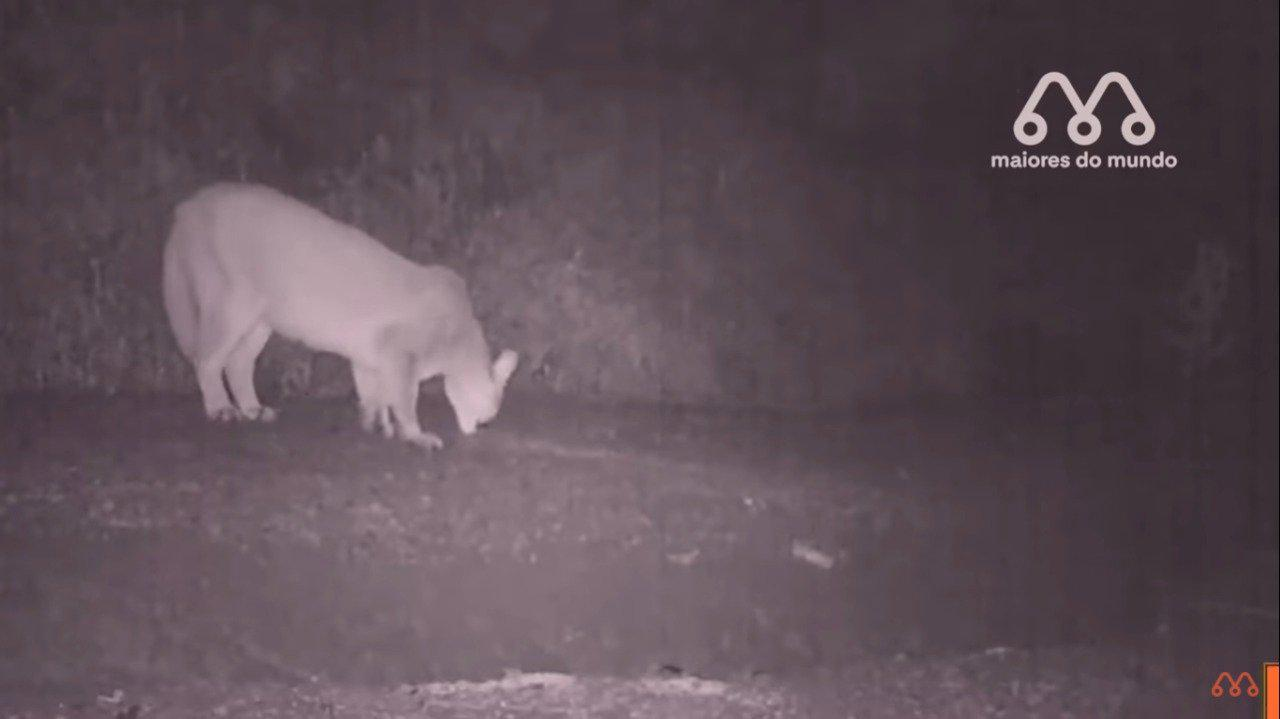OncaParda: (144, 170, 527, 463)
